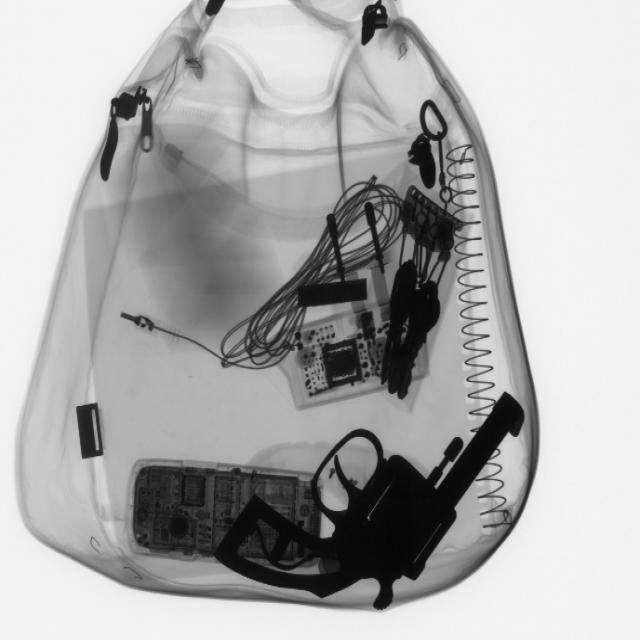GUN: (216, 371, 538, 616)
